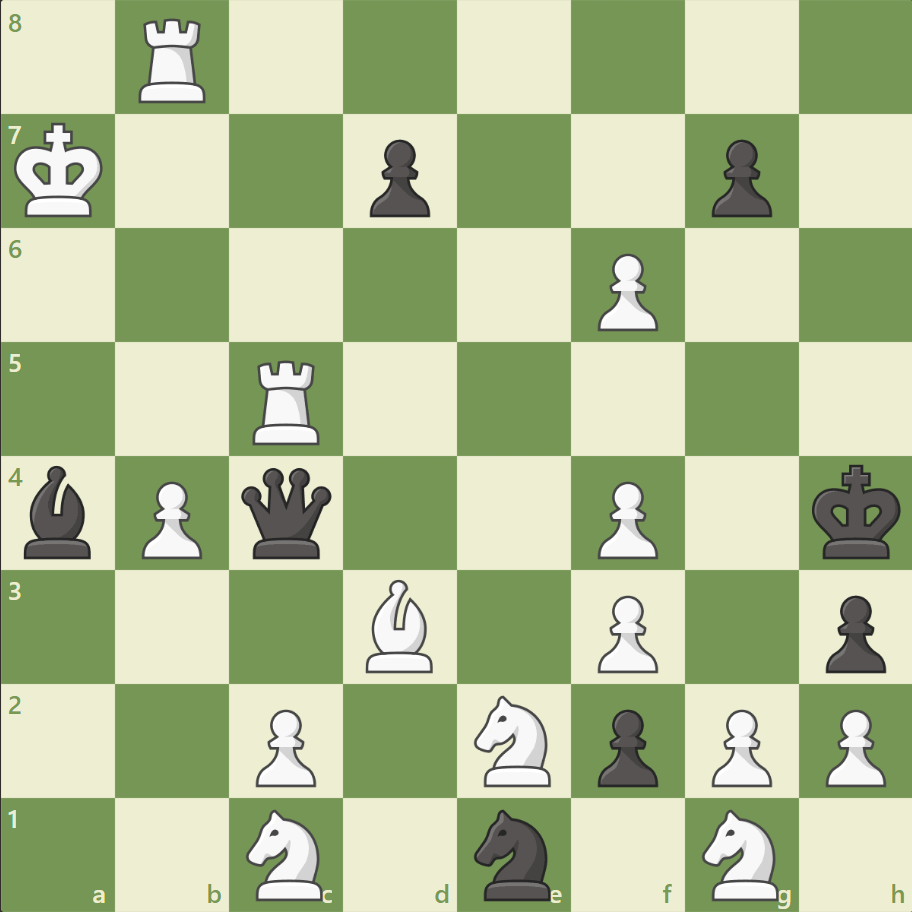B: (358, 574, 442, 676)
K: (11, 117, 111, 225)
N: (465, 688, 562, 791), (238, 802, 335, 904), (692, 802, 789, 904)
P: (133, 473, 208, 564), (247, 700, 322, 791), (701, 700, 776, 791), (588, 246, 662, 337), (588, 473, 662, 564), (588, 586, 662, 677), (815, 700, 889, 791)
R: (246, 352, 329, 449), (133, 12, 215, 109)
b: (17, 460, 101, 563)
k: (806, 458, 906, 566)
n: (465, 802, 562, 904)
p: (701, 132, 776, 223), (361, 132, 435, 223), (815, 586, 889, 677), (588, 700, 662, 791)
q: (237, 463, 336, 562)
